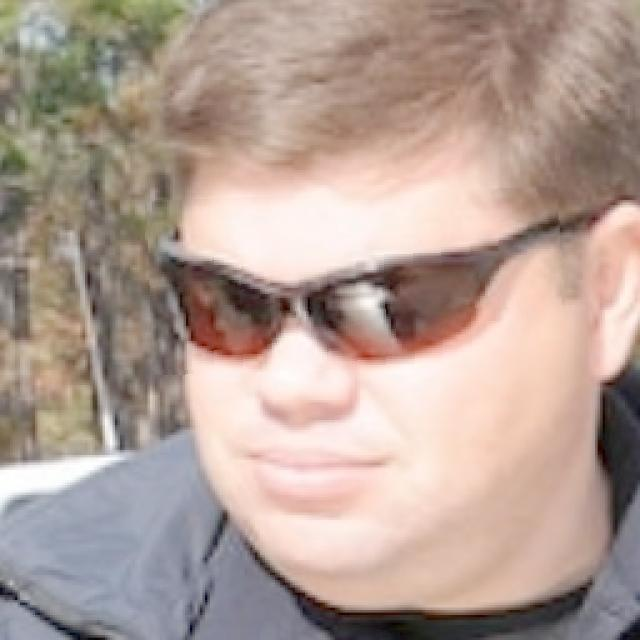glasses: (149, 190, 563, 371)
